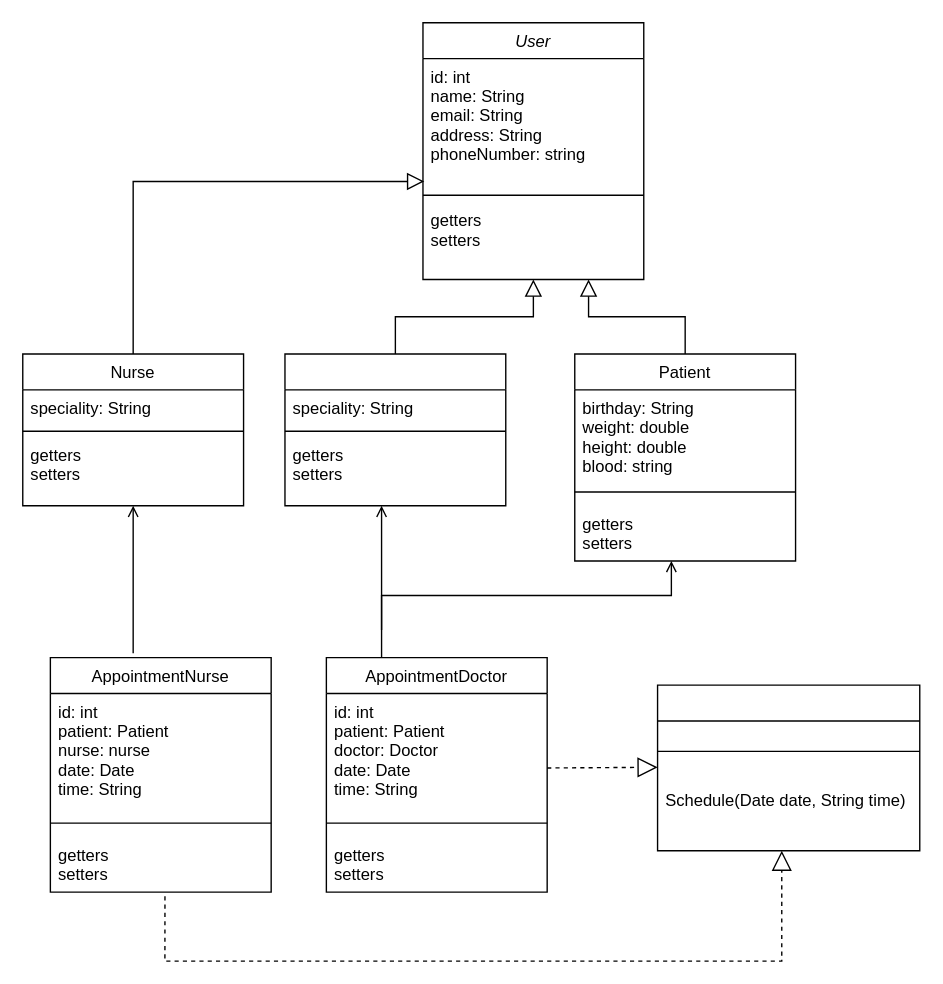
Some shapes in this 943 by 984 pixel diagram are drawn without their labels. The box of each missing label's shape, as (x1, y1, x2, y2) in pixels:
Doctor: (284, 353, 506, 506)
ISchedulable: (656, 684, 920, 851)
